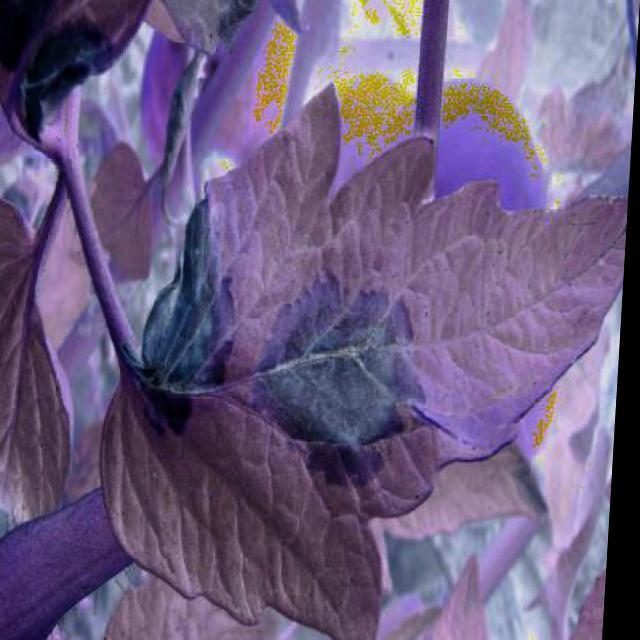Tomato mosaic virus leaf: (86, 60, 636, 639)
